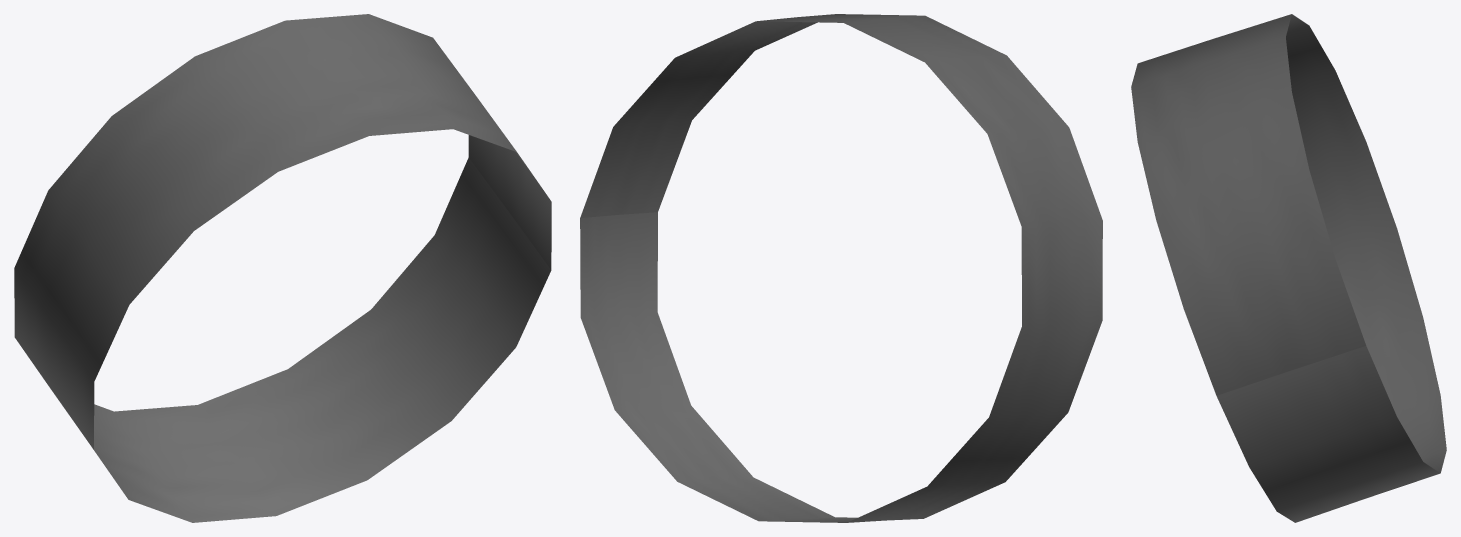
The model's file is mastarmcurve_4x1_c1.obj.
The picture shows the model from 3 angles, left to right: view 1: azimuth 30°, elevation 25°; view 2: azimuth 150°, elevation 25°; view 3: azimuth 270°, elevation 25°; orthographic projection. The views are drawn at different scales.
Parts seen in each view (by area): view 1: mastarm_4x1_c1; view 2: mastarm_4x1_c1; view 3: mastarm_4x1_c1.
Boxes of the visible parts, left/top/right/bottom form: mastarm_4x1_c1: left=14, top=14, right=551, bottom=522; mastarm_4x1_c1: left=580, top=14, right=1102, bottom=522; mastarm_4x1_c1: left=1131, top=14, right=1446, bottom=522.
Size of the model in its own units: 0.5562 by 0.5836 by 0.3614.
